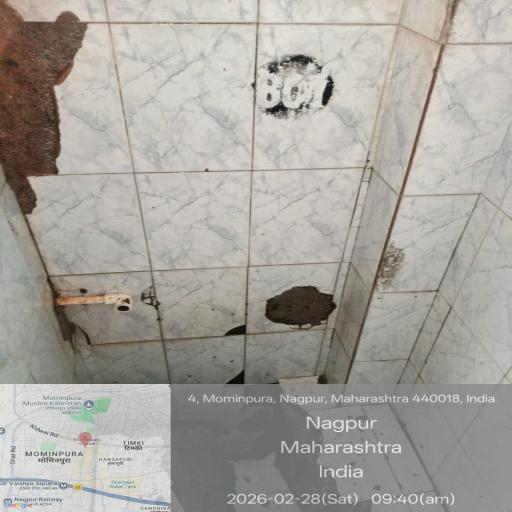damage: (28, 263, 437, 512), (0, 0, 113, 242)
partial_dirty_floor: (117, 45, 504, 477)
